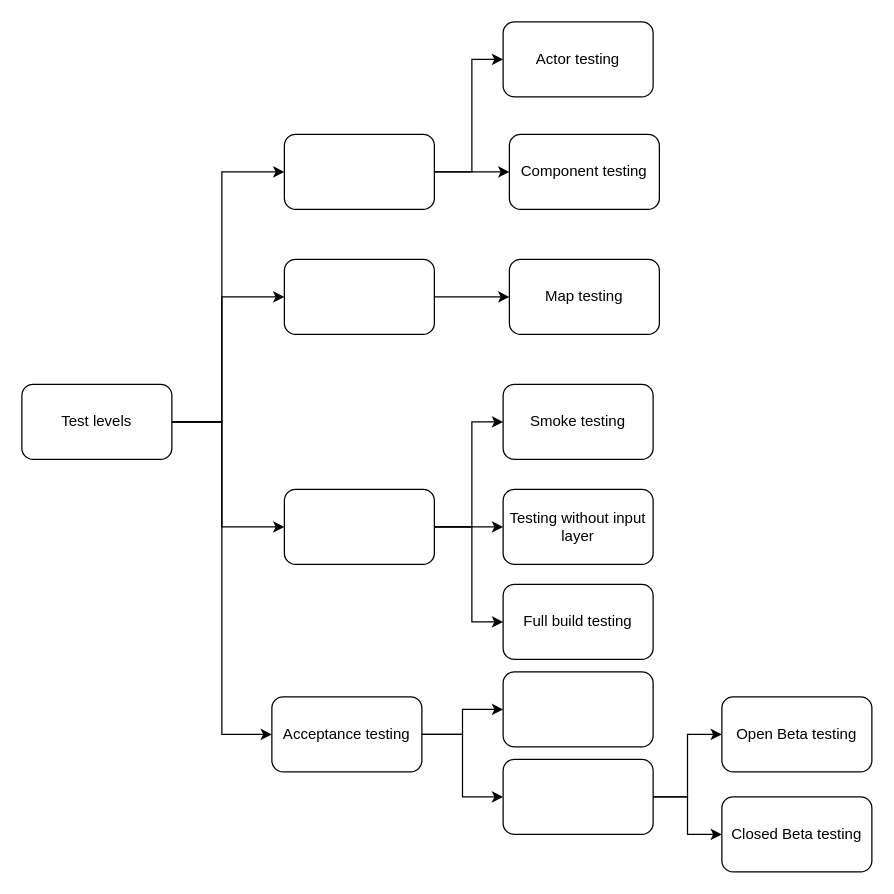
Image size: 894x894. Some labels were removed from this diagram. The centre of each missing label's shape, as x and y in pixels:
"Alpha testing" goes at [577,709].
"Beta testing" goes at [577,796].
"Integration Testing" goes at [358,296].
"System testing" goes at [358,526].
"Unit testing" goes at [358,171].
